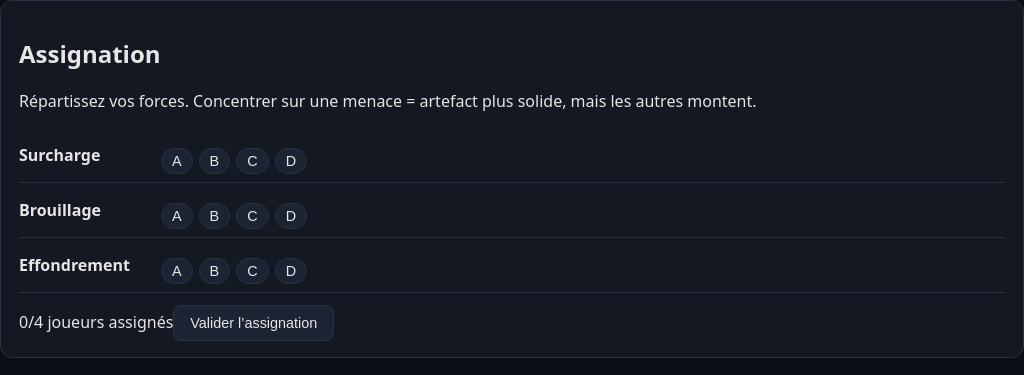
Test: Assignation › compte les joueurs assignés
The width and height of the screenshot is (1024, 375).
Click the button "A" next to "Surcharge" at (177, 161), box [161,148,193,174]
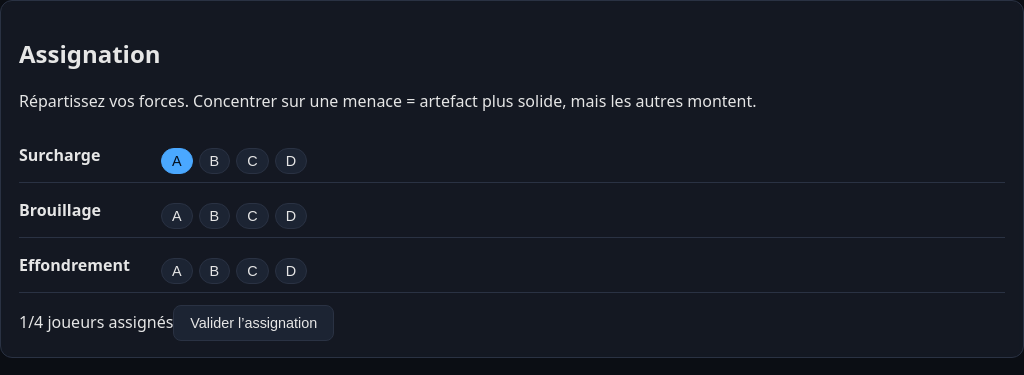
Click the button "B" in the row of "Surcharge" at (214, 161), box [199,148,230,174]
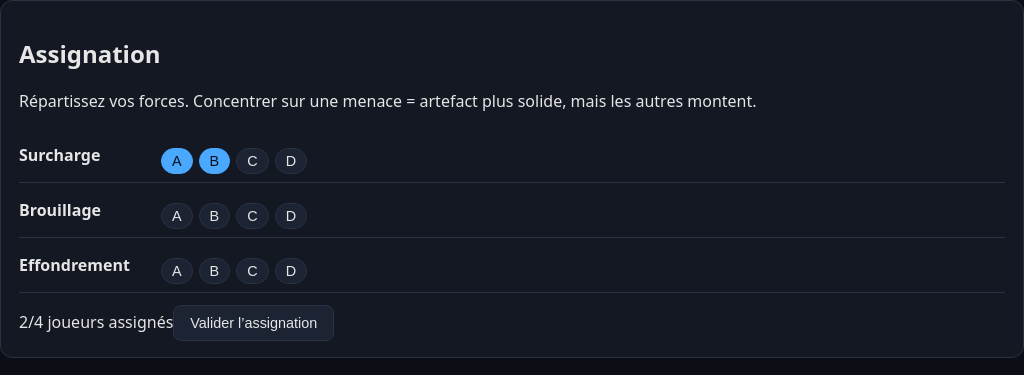
Expected: the text with test id "assign-compteur" shows "2", [19,311,28,333]
